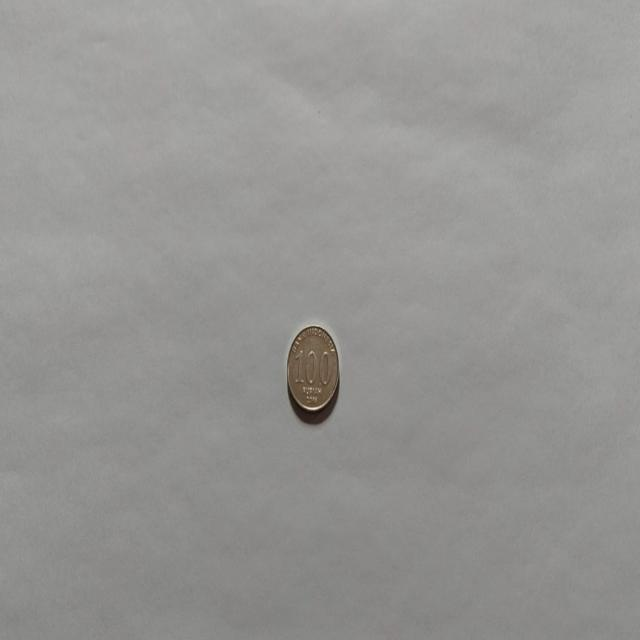seratus rupiah: (286, 323, 340, 417)
